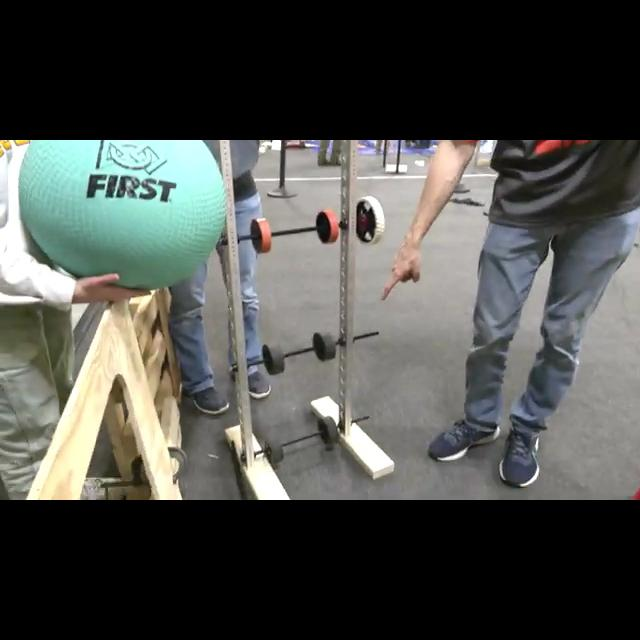ALGAE: (16, 140, 228, 290)
